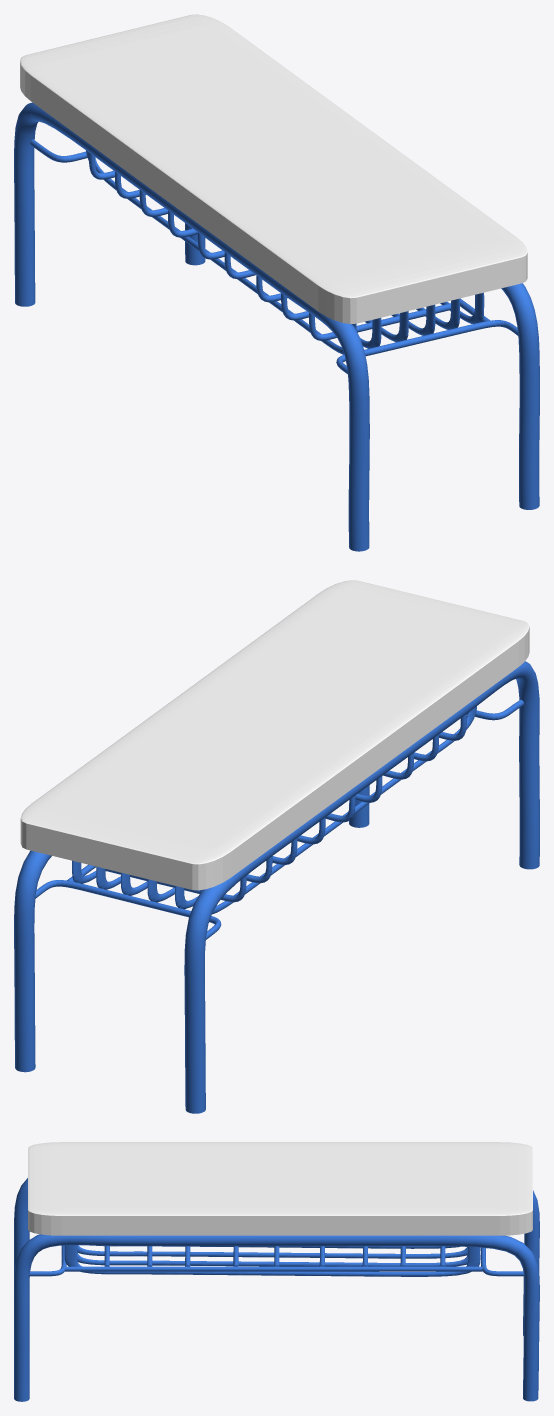
3 views of the same model, one above another, from view 1: azimuth 30°, elevation 25°; view 2: azimuth 150°, elevation 25°; view 3: azimuth 270°, elevation 25° (orthographic). The views are drawn at different scales.
Parts seen in each view (by area): view 1: Cube, BézierCurve.001, BézierCurve, BézierCurve.002, BézierCurve.009, BézierCurve.010; view 2: Cube, BézierCurve.001, BézierCurve, BézierCurve.003, BézierCurve.009; view 3: Cube, BézierCurve, Cylinder, BézierCurve.004, BézierCurve.006, BézierCurve.005, BézierCurve.001, BézierCurve.007, BézierCurve.003.
Boxes of the visible parts, x1,y1,x2,y2 form: Cube: (20, 14, 527, 323); BézierCurve.001: (14, 102, 369, 551); BézierCurve: (185, 223, 539, 509); BézierCurve.002: (336, 320, 518, 373); BézierCurve.009: (86, 150, 356, 354); BézierCurve.010: (309, 303, 450, 340); Cube: (20, 580, 529, 890); BézierCurve.001: (184, 661, 539, 1113); BézierCurve: (14, 785, 369, 1072); BézierCurve.003: (35, 880, 221, 939); BézierCurve.009: (200, 706, 476, 914); Cube: (28, 1142, 532, 1235); BézierCurve: (14, 1234, 539, 1401); Cylinder: (64, 1266, 482, 1271); BézierCurve.004: (64, 1245, 480, 1276); BézierCurve.006: (76, 1245, 467, 1258); BézierCurve.005: (76, 1248, 480, 1266); BézierCurve.001: (14, 1178, 539, 1335); BézierCurve.007: (96, 1245, 459, 1248); BézierCurve.003: (481, 1247, 524, 1276).
Size of the model in its own units: 1.21 by 1.44 by 3.65.
